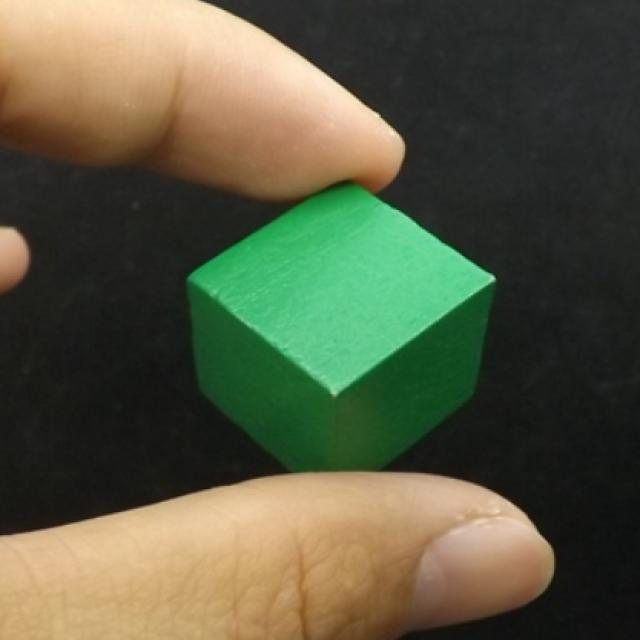green cube: (184, 181, 497, 475)
